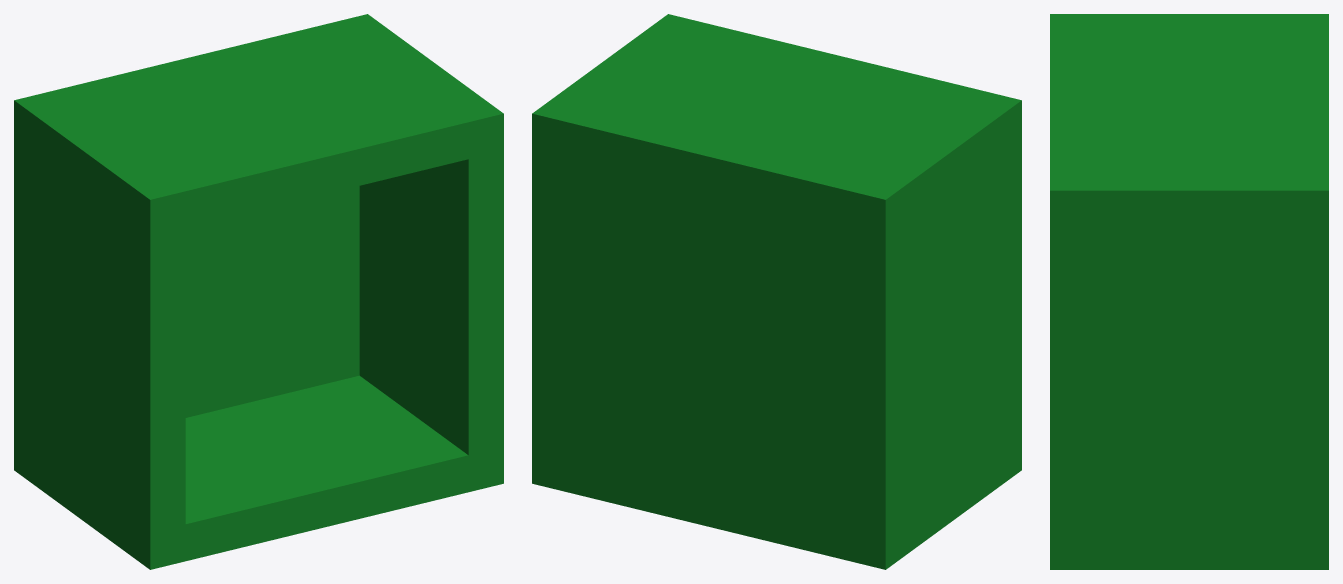
The model's file is green_box.obj.
The picture shows the model from 3 angles, left to right: view 1: azimuth 30°, elevation 25°; view 2: azimuth 150°, elevation 25°; view 3: azimuth 270°, elevation 25°; orthographic projection. The views are drawn at different scales.
Visible parts, largest first — view 1: green_box_left_wall, green_box_floor, green_box_right_wall, green_box_back_wall, green_box_front_wall; view 2: green_box_floor, green_box_left_wall, green_box_back_wall, green_box_right_wall, green_box_front_wall; view 3: green_box_right_wall, green_box_back_wall, green_box_floor, green_box_left_wall.
Part boxes in pixels (x1,y1,x2,y2): green_box_left_wall: (14, 92, 185, 569); green_box_floor: (14, 14, 394, 489); green_box_right_wall: (333, 14, 503, 491); green_box_back_wall: (51, 23, 468, 227); green_box_front_wall: (185, 375, 468, 560); green_box_floor: (532, 94, 912, 569); green_box_left_wall: (850, 91, 1021, 569); green_box_back_wall: (567, 22, 985, 227); green_box_right_wall: (532, 14, 702, 490); green_box_front_wall: (567, 455, 849, 560); green_box_right_wall: (1050, 173, 1328, 569); green_box_back_wall: (1050, 31, 1328, 172); green_box_floor: (1273, 14, 1328, 569); green_box_left_wall: (1050, 14, 1328, 31).
Bounding box in the file's own units: 0.3 × 0.3 × 0.2.
